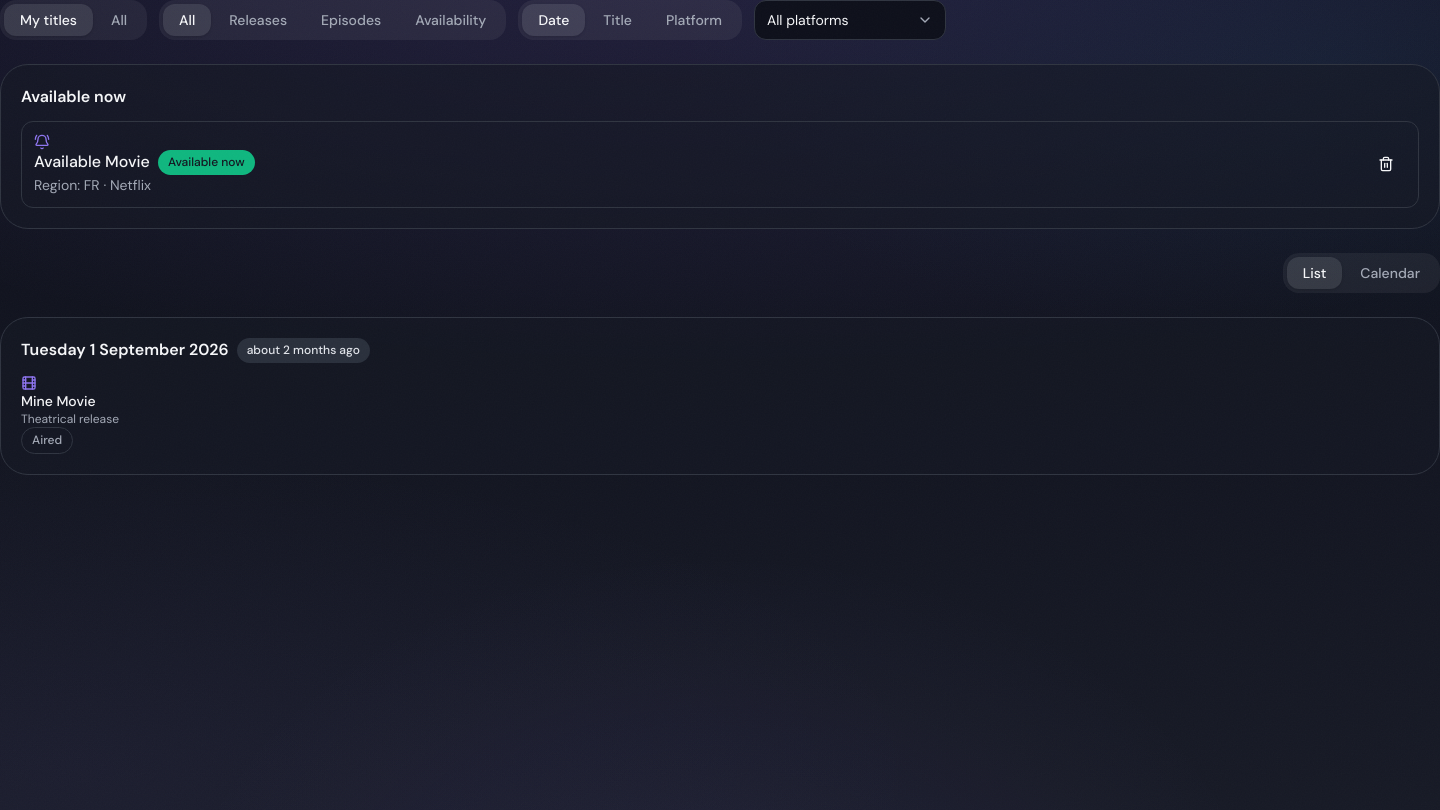
TrackingList › filters to only availability entries when the availability type filter is selected
The image size is (1440, 810).
What coordinates should you click on to do the following:
click the button "Availability"
I would click on:
 (451, 20)
Its box is [399,4,502,36].
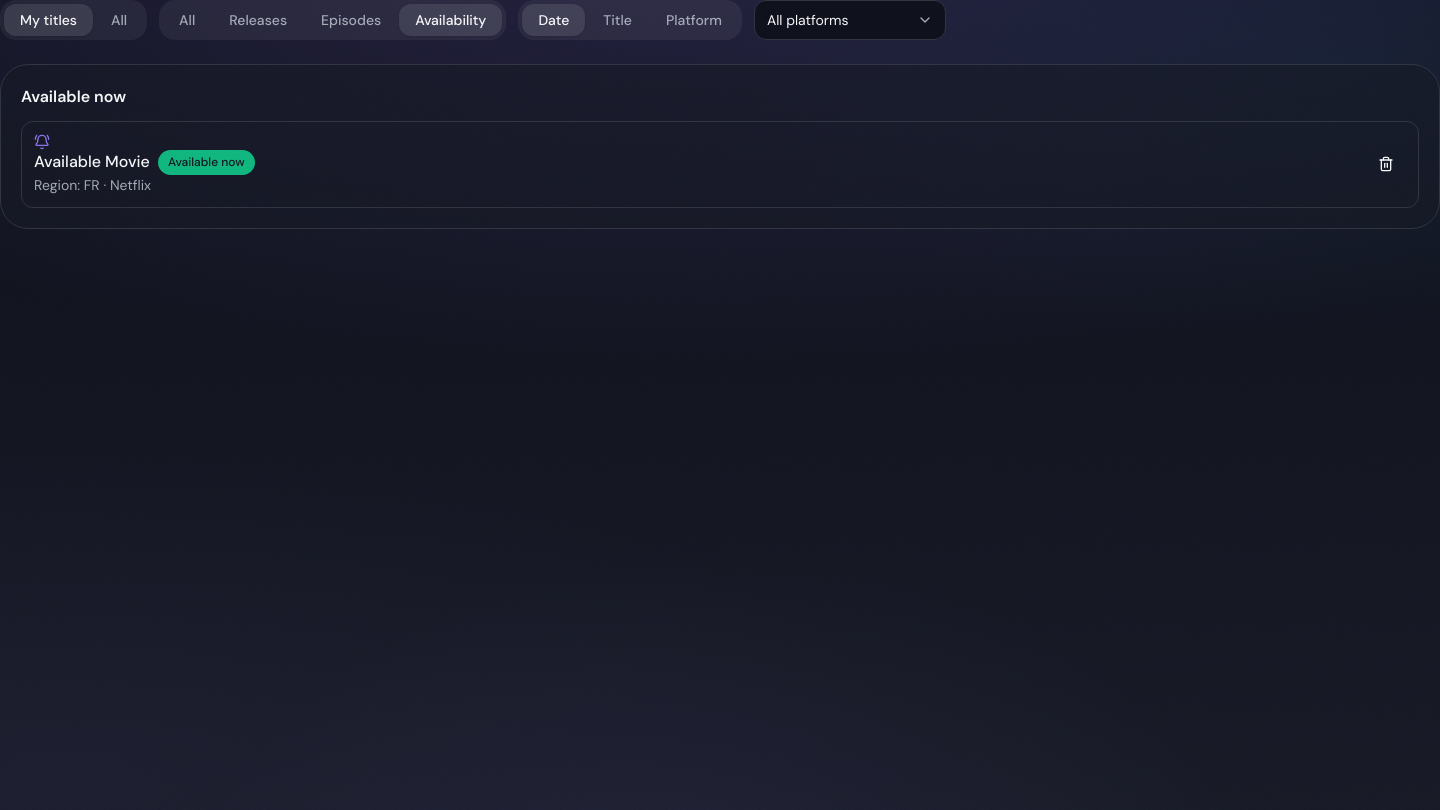
Check: the text "Available Movie" is shown, box [34,150,150,174]
Check: the link "Mine Movie" is gone
